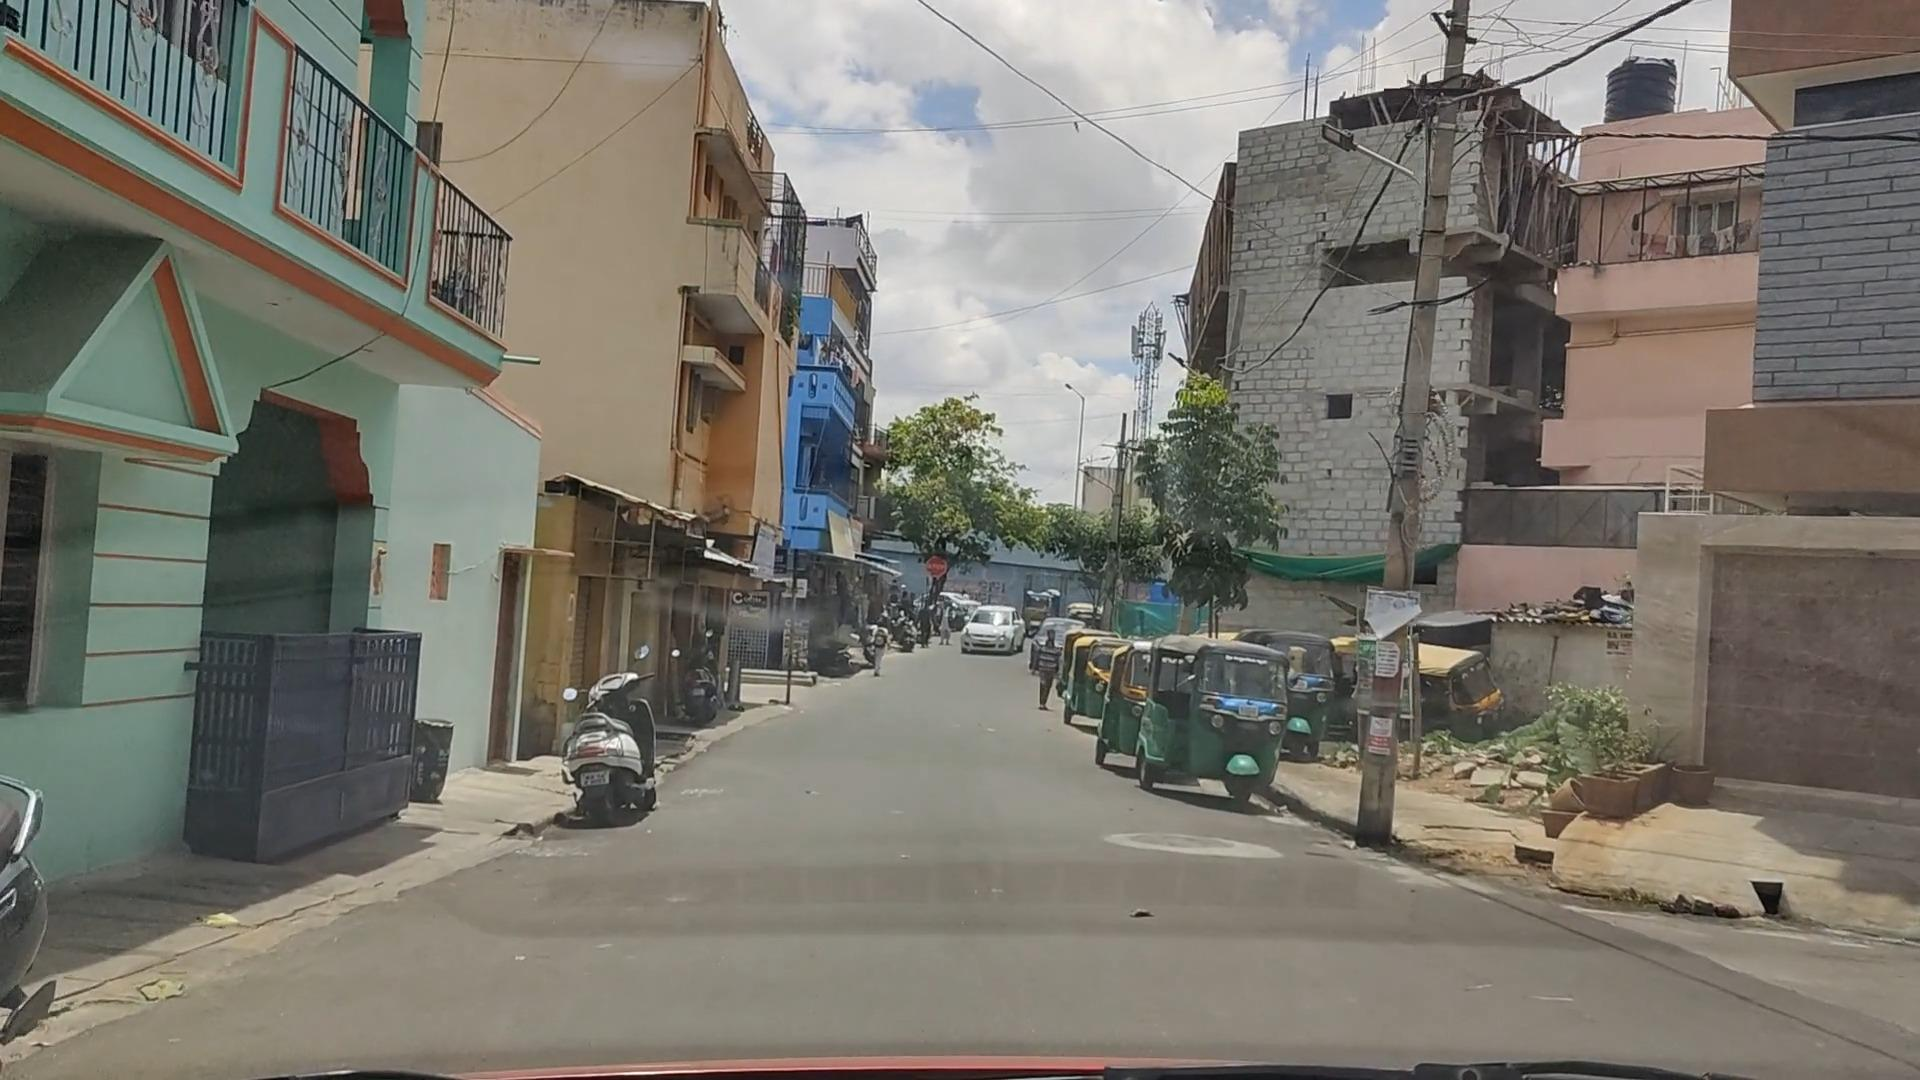LMV: (1143, 647, 1299, 804)
RoadDamages: (1092, 816, 1279, 869)
